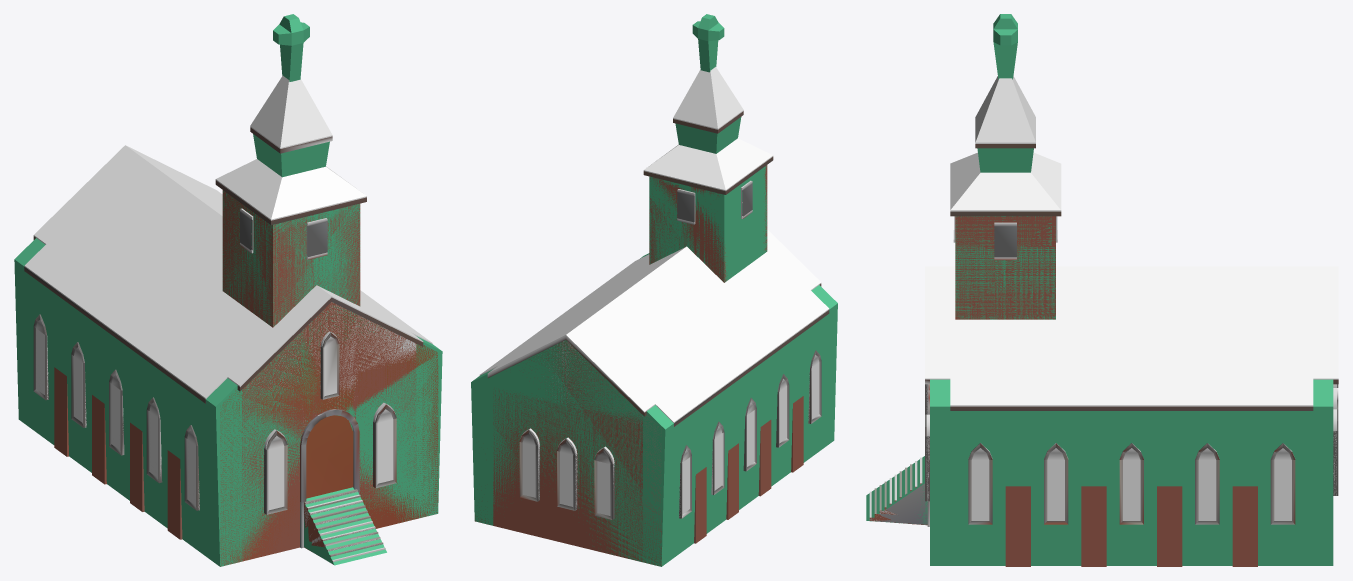
Rendered from eca_bld_church_a.dae.
The picture shows the model from 3 angles, left to right: view 1: azimuth 30°, elevation 25°; view 2: azimuth 150°, elevation 25°; view 3: azimuth 270°, elevation 25°; orthographic projection. The views are drawn at different scales.
Visible parts, largest first — view 1: Colmesh-1, ind_bld_a400, ind_bld_a100, ind_bld_a20; view 2: Colmesh-1, ind_bld_a400, ind_bld_a100, ind_bld_a20; view 3: ind_bld_a400, Colmesh-1, ind_bld_a100, ind_bld_a20.
Part boxes in pixels (x1,y1,x2,y2): Colmesh-1: [14, 14, 442, 566]; ind_bld_a400: [24, 76, 432, 562]; ind_bld_a100: [24, 127, 423, 561]; ind_bld_a20: [220, 304, 438, 566]; Colmesh-1: [471, 14, 837, 566]; ind_bld_a400: [479, 67, 829, 517]; ind_bld_a100: [487, 111, 829, 561]; ind_bld_a20: [475, 340, 661, 565]; ind_bld_a400: [869, 76, 1338, 525]; Colmesh-1: [866, 14, 1333, 565]; ind_bld_a100: [869, 144, 1338, 566]; ind_bld_a20: [875, 483, 927, 524].
Bounding box in the file's own units: 10.4 × 18.72 × 21.72.
